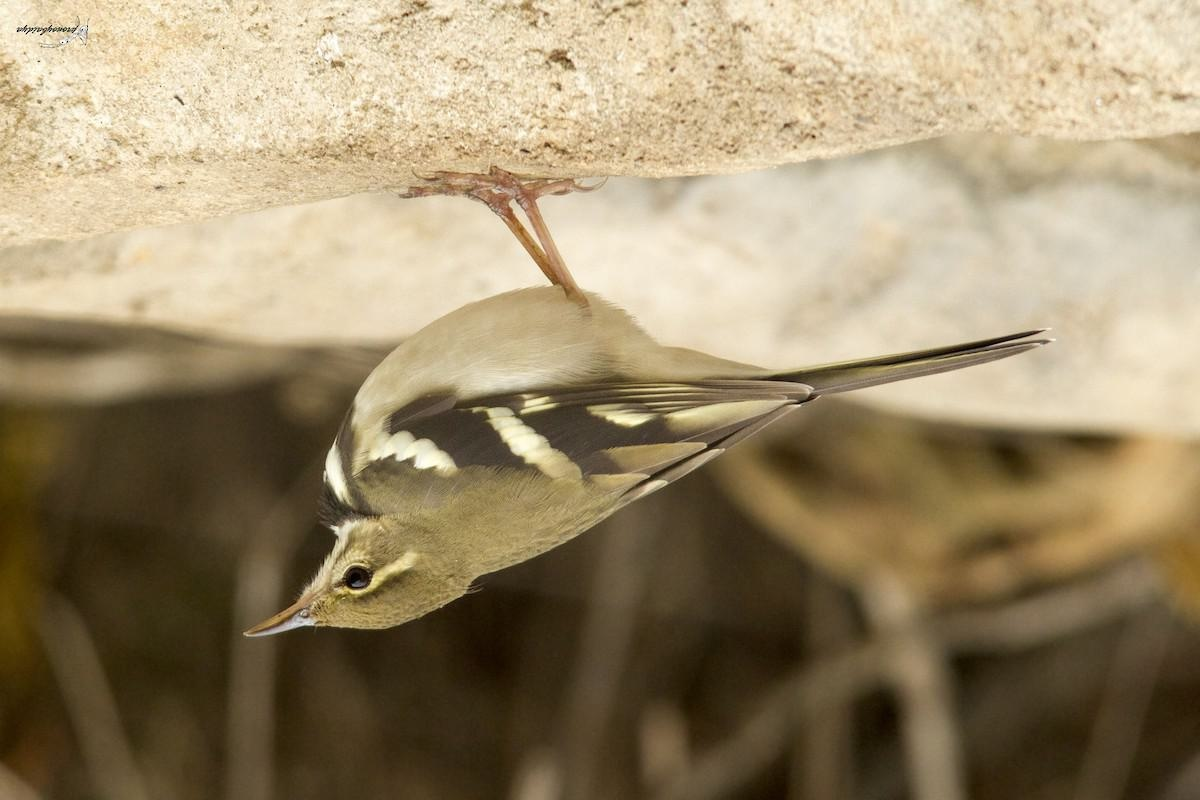wagtail: (227, 148, 1173, 660)
